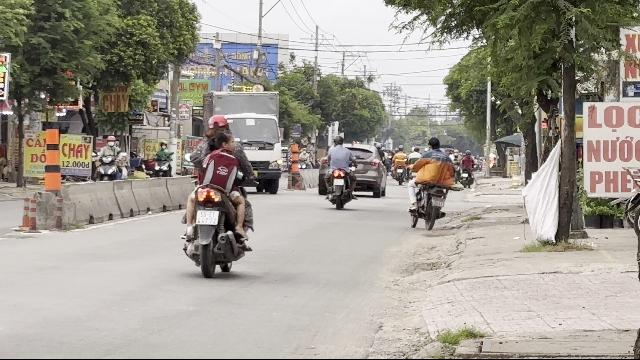helmet: (207, 114, 229, 134)
licenseplate: (197, 209, 220, 224)
motorcyclist: (178, 112, 256, 276)
nohelmet: (212, 130, 234, 154)
